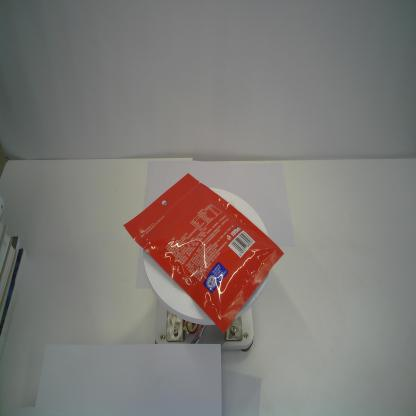Dried Fruit: (123, 172, 284, 334)
